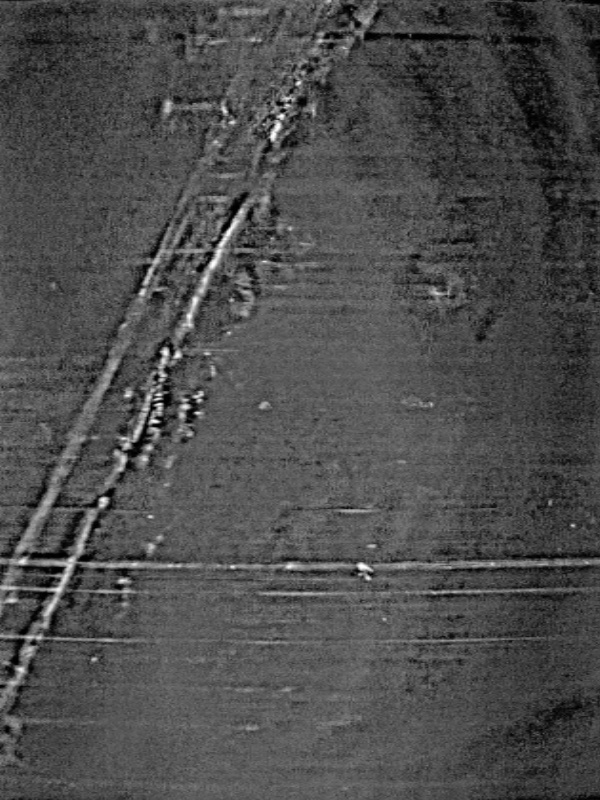splice_vulcanized: (1, 3, 363, 746)
